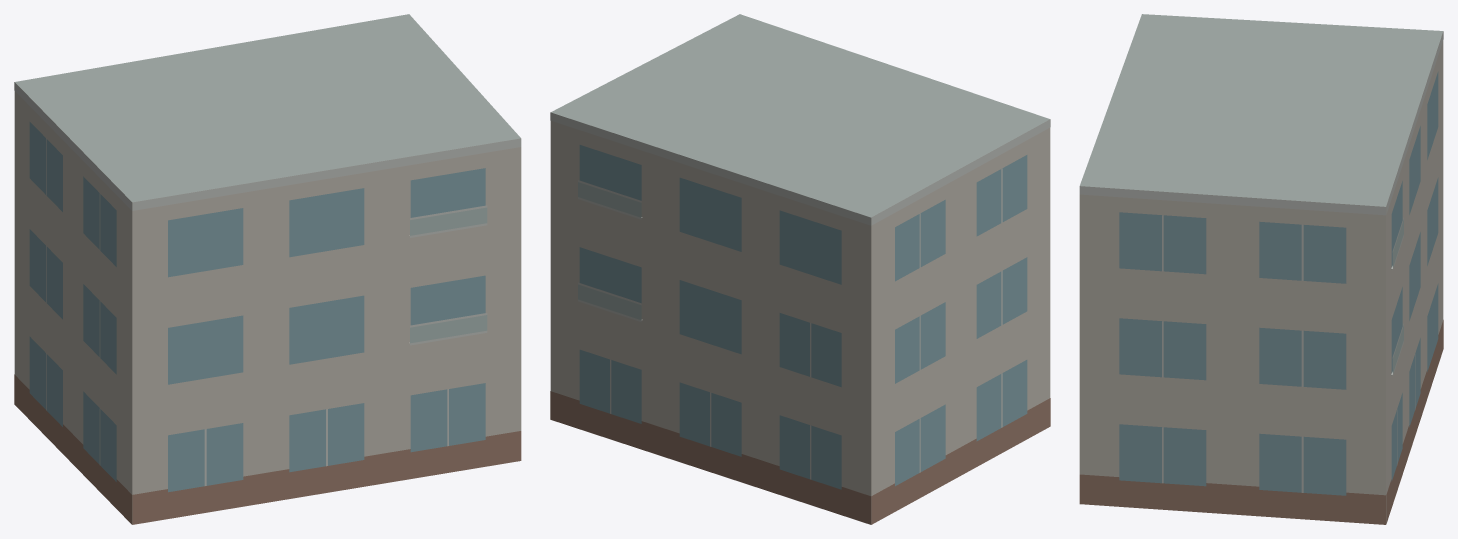
Rendered from survey-upis-32531627.glb.
3 renders of one model, left to right at view 1: azimuth 30°, elevation 25°; view 2: azimuth 150°, elevation 25°; view 3: azimuth 270°, elevation 25°, orthographic. The views are drawn at different scales.
Visible parts, largest first — view 1: survey-upis-32531627.tmp; view 2: survey-upis-32531627.tmp; view 3: survey-upis-32531627.tmp.
Boxes of the visible parts, x1,y1,x2,y2 form: survey-upis-32531627.tmp: [14, 14, 521, 524]; survey-upis-32531627.tmp: [550, 14, 1050, 524]; survey-upis-32531627.tmp: [1079, 14, 1443, 524].
Size of the model in its own units: 11.91 by 9.15 by 9.5.
